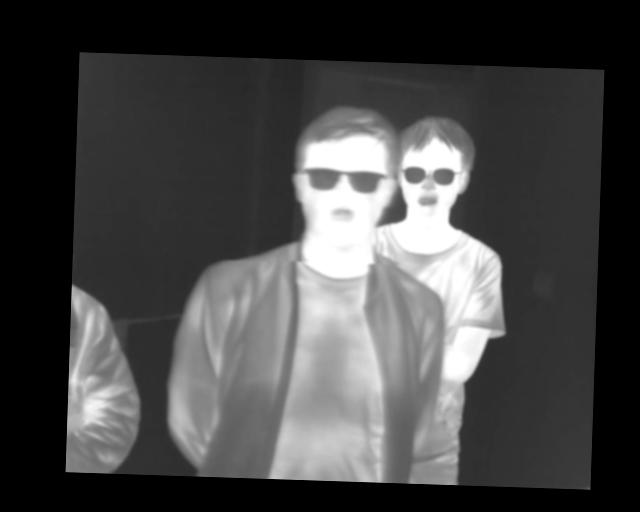face: (289, 100, 398, 251), (397, 112, 477, 220)
